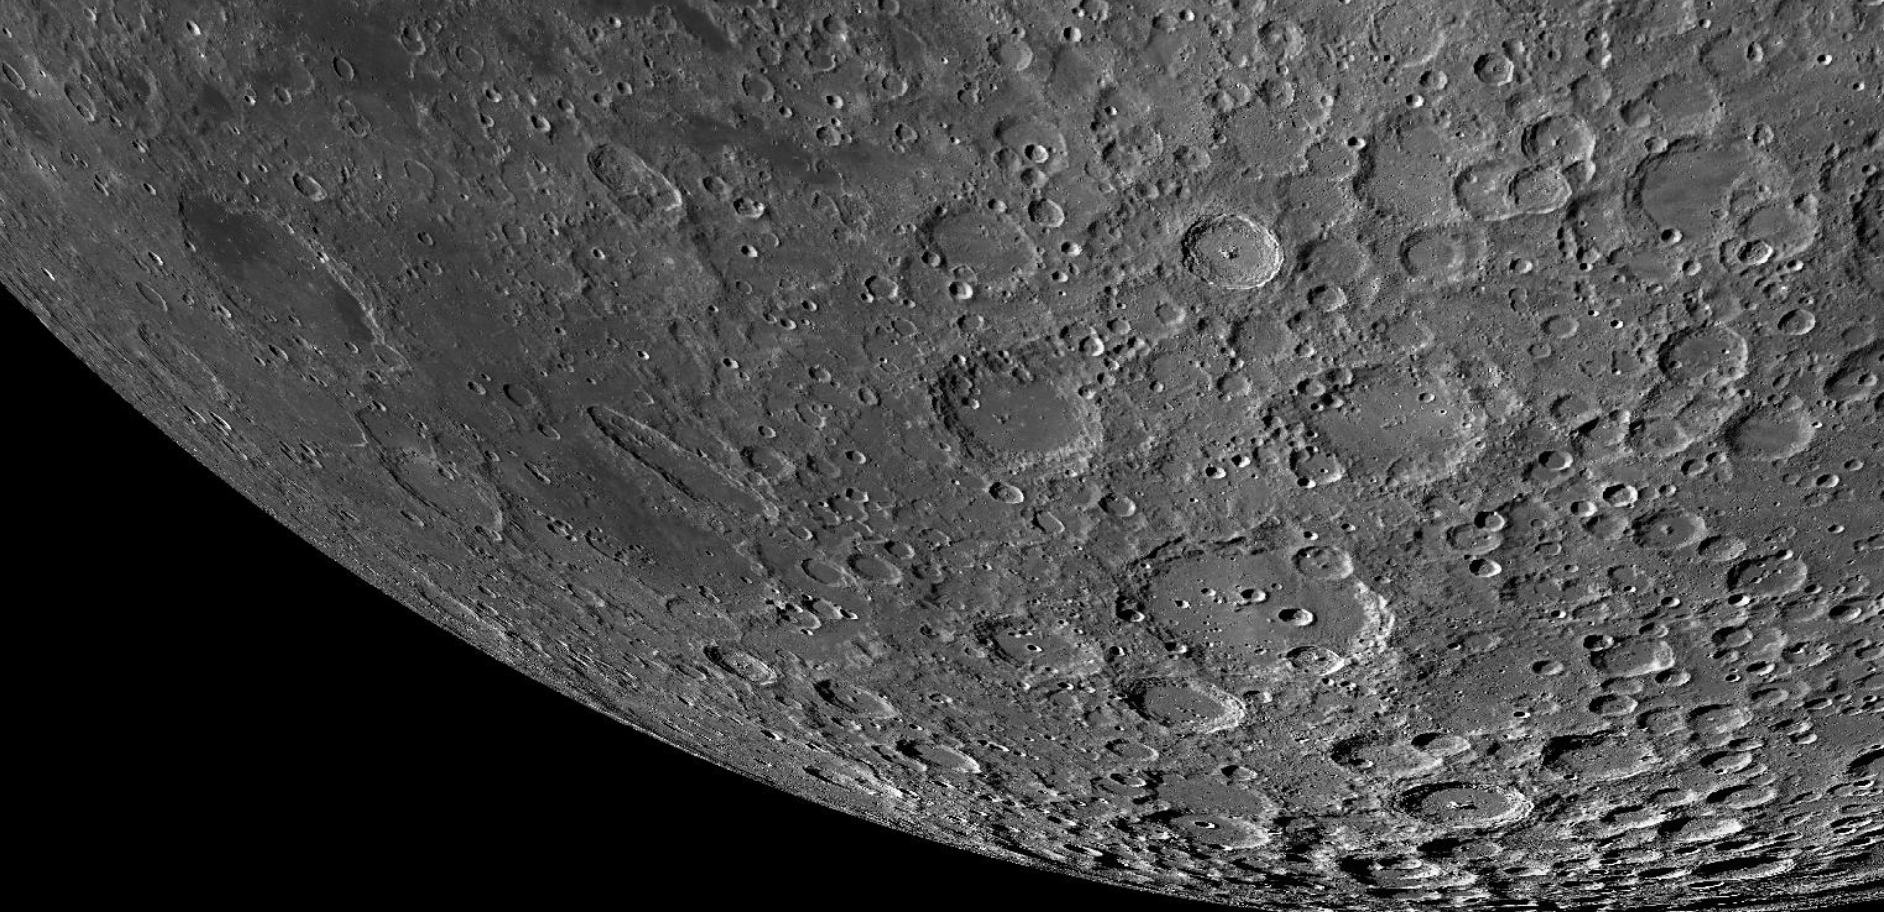crater: (147, 178, 457, 395), (882, 342, 1127, 496), (906, 185, 1077, 298), (366, 446, 523, 552), (1158, 191, 1299, 306), (558, 126, 690, 236), (1373, 771, 1542, 836), (1706, 387, 1825, 473), (679, 628, 786, 695), (1612, 497, 1717, 561), (1516, 636, 1573, 692), (439, 32, 497, 81), (1469, 44, 1521, 93), (1651, 204, 1692, 260), (495, 372, 543, 417), (317, 48, 365, 89), (1272, 603, 1324, 636)
